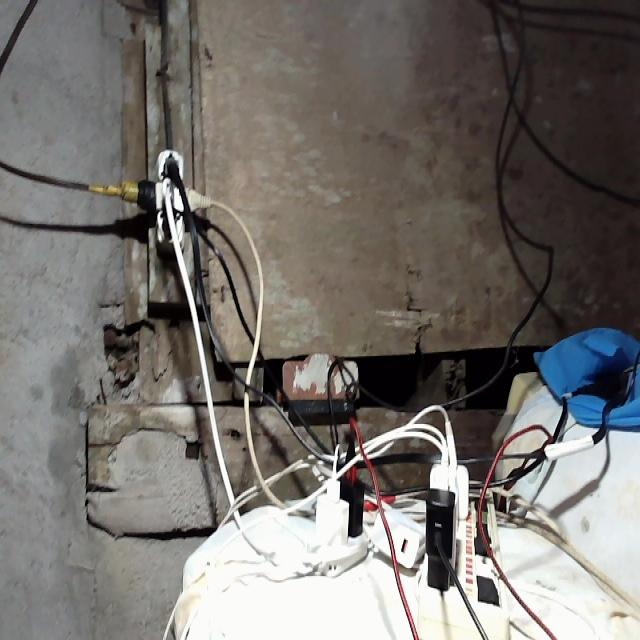-: (118, 148, 220, 255)
